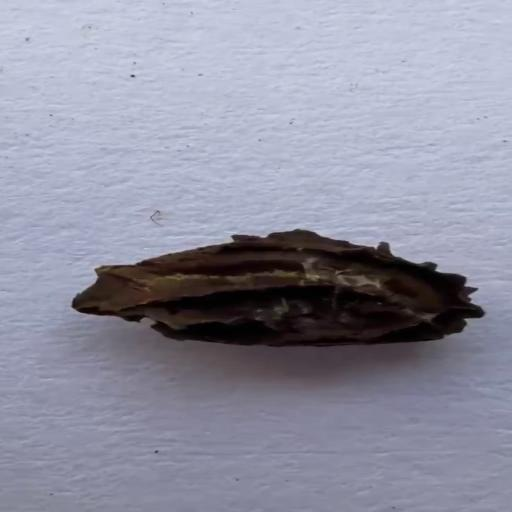papaya_seed: (55, 218, 495, 356)
